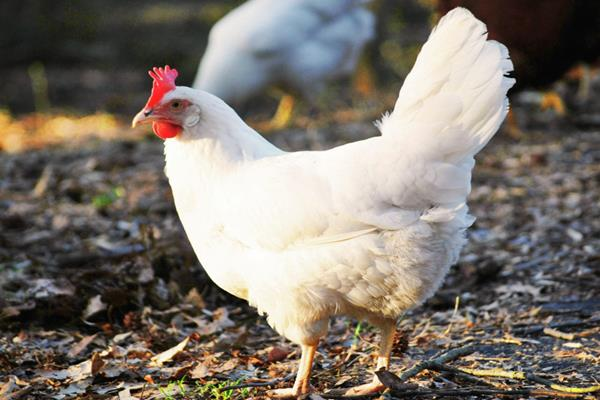Healthy: (126, 10, 507, 382)
